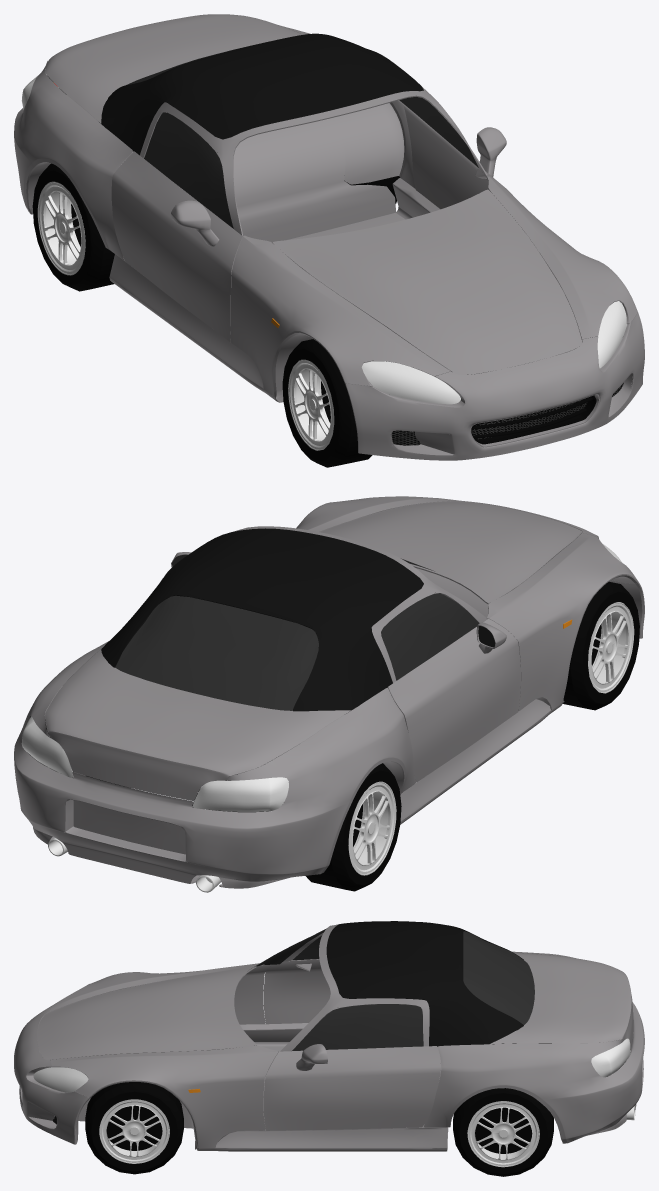
3 views of the same model, one above another, from view 1: azimuth 30°, elevation 25°; view 2: azimuth 150°, elevation 25°; view 3: azimuth 270°, elevation 25° (orthographic). The views are drawn at different scales.
Parts seen in each view (by area): view 1: Plane, Plane.001, Plane.009, Plane.023, Plane.004, Plane.005, Plane.028, Plane.006, Circle, Plane.022, Circle.001, Plane.003 (+6 smaller); view 2: Plane.005, Plane.009, Plane.006, Plane.022, Plane, Plane.001, Plane.004, Circle, Circle.001, Plane.016, Plane.003, Plane.008 (+3 smaller); view 3: Plane.004, Plane.001, Plane.005, Plane.009, Plane, Circle, Plane.022, Plane.006, Plane.003, Circle.001, Plane.023, Plane.008 (+3 smaller).
Boxes of the visible parts, box(x1,y1,x2,y2) form: Plane: box(272, 189, 582, 374); Plane.001: box(230, 176, 637, 401); Plane.009: box(99, 33, 423, 155); Plane.023: box(345, 312, 644, 460); Plane.004: box(111, 100, 512, 341); Plane.005: box(14, 20, 415, 259); Plane.028: box(31, 118, 405, 402); Plane.006: box(45, 14, 302, 123); Circle: box(32, 163, 399, 467); Plane.022: box(126, 44, 478, 228); Circle.001: box(37, 181, 334, 450); Plane.003: box(109, 178, 440, 402); Plane.005: box(14, 641, 415, 888); Plane.009: box(101, 528, 423, 713); Plane.006: box(45, 649, 350, 800); Plane.022: box(115, 558, 479, 710); Plane: box(319, 501, 582, 604); Plane.001: box(296, 496, 637, 710); Plane.004: box(388, 618, 520, 782); Circle: box(86, 581, 639, 891); Circle.001: box(348, 602, 634, 875); Plane.016: box(21, 716, 288, 811); Plane.003: box(400, 697, 562, 824); Plane.008: box(161, 526, 487, 682); Plane.004: box(263, 959, 440, 1130); Plane.001: box(50, 963, 278, 1149); Plane.005: box(423, 951, 644, 1143); Plane.009: box(326, 921, 523, 1046); Plane: box(37, 966, 256, 1060); Circle: box(85, 1043, 553, 1176); Plane.022: box(251, 928, 534, 1050); Plane.006: box(490, 952, 633, 1048); Plane.003: box(197, 1023, 446, 1151); Circle.001: box(99, 1099, 539, 1167); Plane.023: box(14, 1006, 89, 1144); Plane.008: box(280, 924, 429, 1051).
Size of the model in its own units: 127 by 86.95 by 281.
17 materials, 1 textured.
